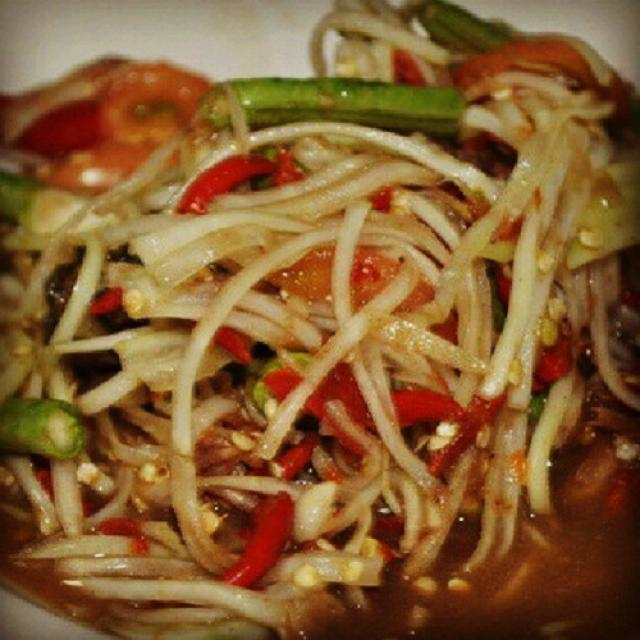蔬菜料理: (15, 23, 621, 613)
